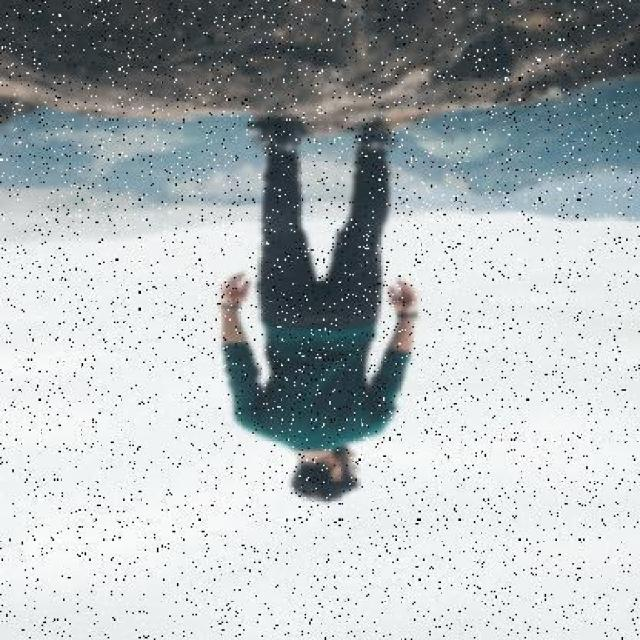person: (212, 127, 418, 504)
